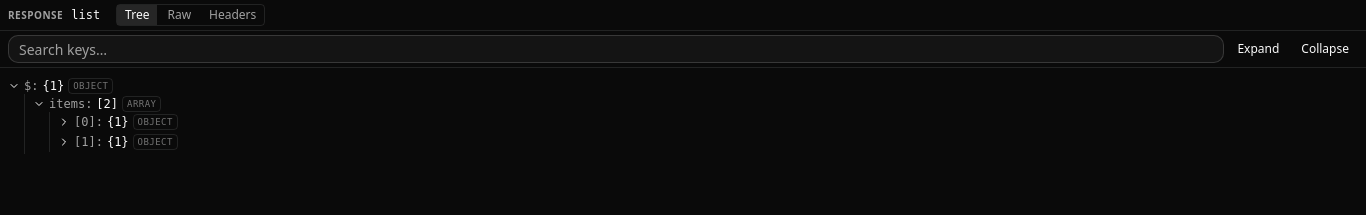
Scenario: ResponseColumn › Raw tab renders the pretty-printed JSON body
Click the button "Raw" at (179, 15), box left=159, top=5, right=199, bottom=25
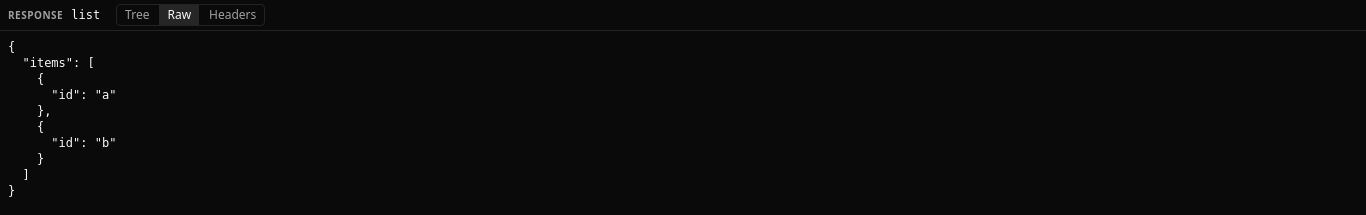
Expected: the text "{ \"items\": [ { \"id\": \"a\" }, { \"id\": \"b\" } ] }" shows "\"items\"", left=8, top=40, right=116, bottom=198
Expected: the text "{ \"items\": [ { \"id\": \"a\" }, { \"id\": \"b\" } ] }" shows "\"id\": \"a\"", left=8, top=40, right=116, bottom=198
